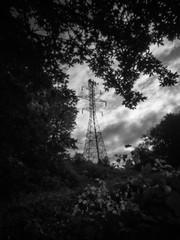power_tower: (79, 76, 116, 164)
